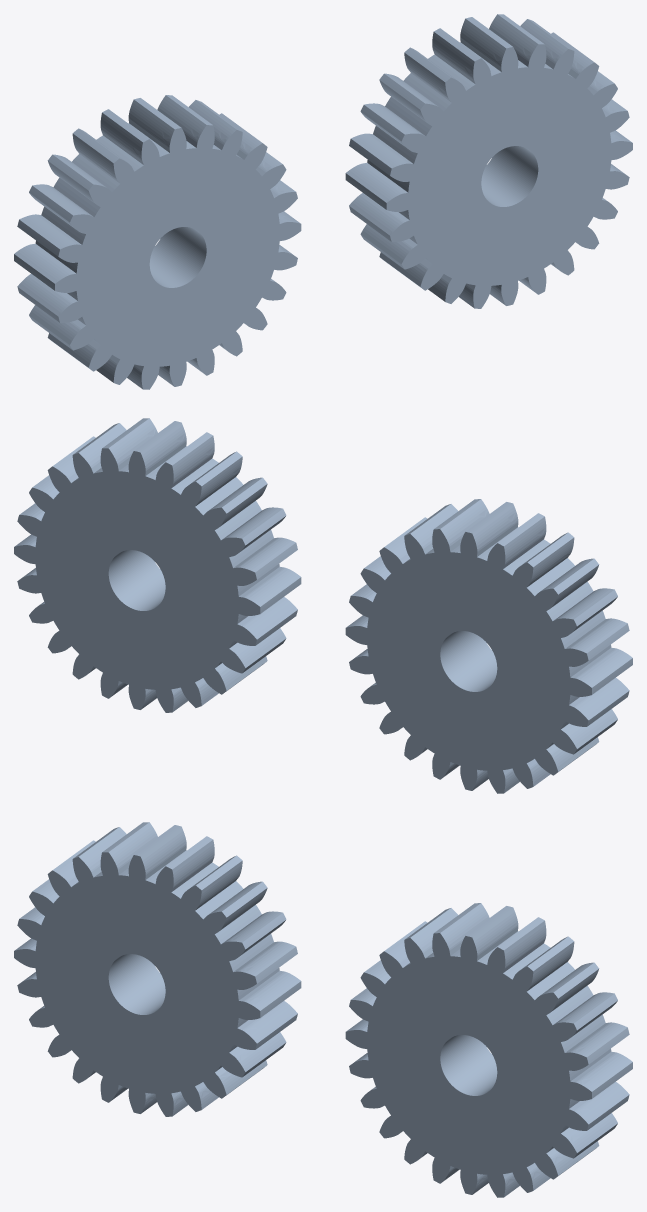
File: assembly-model.glb
3 views of the same model, one above another, from view 1: azimuth 30°, elevation 25°; view 2: azimuth 150°, elevation 25°; view 3: azimuth 330°, elevation 25° (orthographic).
Visible parts, largest first — view 1: Imported CAD; view 2: Imported CAD; view 3: Imported CAD.
Boxes of the visible parts, x1,y1,x2,y2 form: Imported CAD: [14, 14, 632, 389]; Imported CAD: [14, 418, 632, 793]; Imported CAD: [14, 822, 632, 1197].
Bounding box in the file's own units: 122 × 52 × 15.
